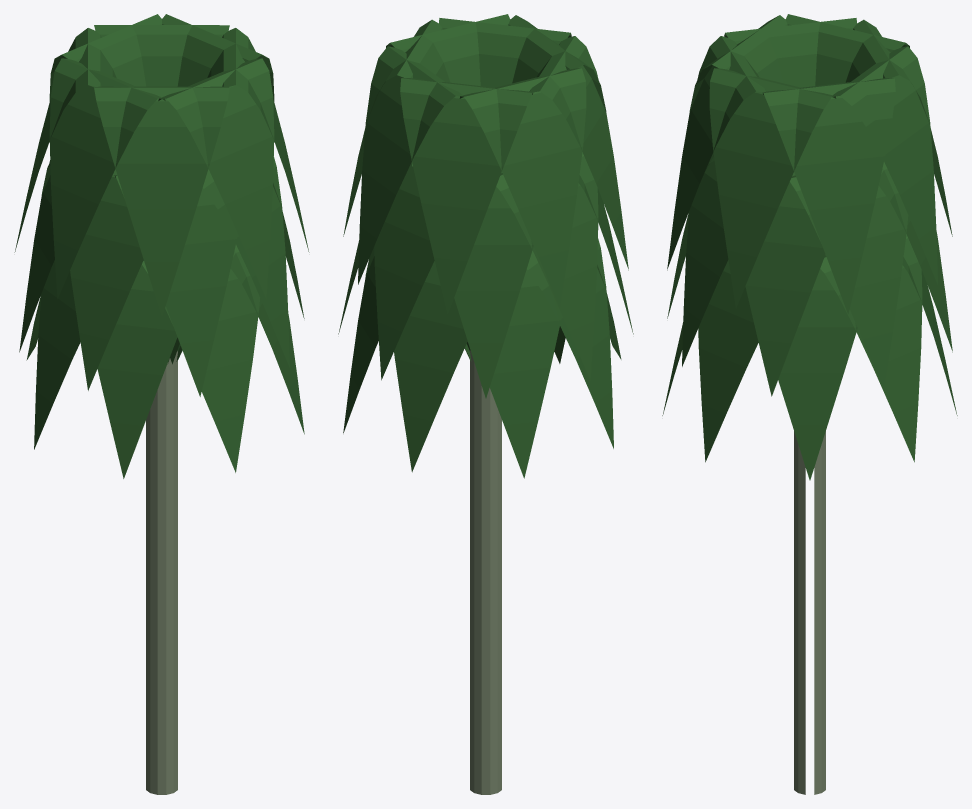
File: fan-tree.glb
3 views of the same model, side by side, from view 1: azimuth 30°, elevation 25°; view 2: azimuth 150°, elevation 25°; view 3: azimuth 270°, elevation 25° (orthographic).
Size of the model in its own units: 1.96 by 5.36 by 1.96.
